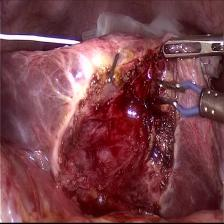Bipolar: (153, 78, 219, 119)
Grasper: (162, 38, 224, 62)
Specimen Bag: (80, 9, 187, 39)
